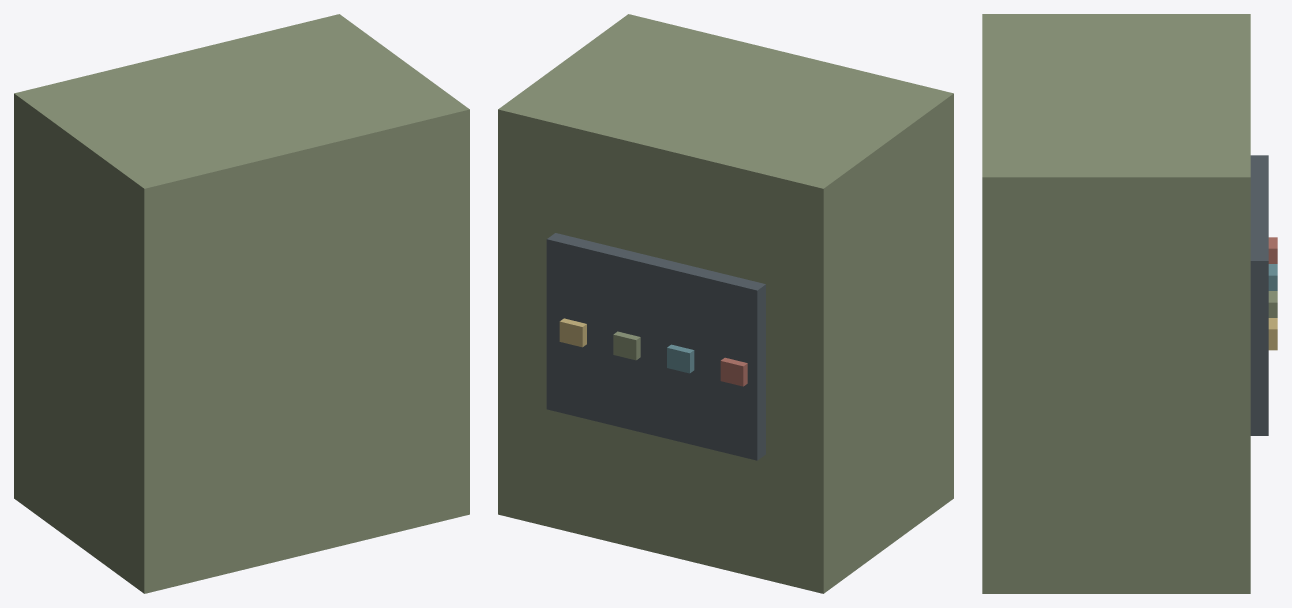
Rendered from iz2_power_cable_bridge.glb.
3 renders of one model, left to right at view 1: azimuth 30°, elevation 25°; view 2: azimuth 150°, elevation 25°; view 3: azimuth 270°, elevation 25°, orthographic. The views are drawn at different scales.
Visible parts, largest first — view 1: body; view 2: body; view 3: body.
Boxes of the visible parts, left/top/right/bottom form: body: left=14, top=14, right=469, bottom=593; body: left=498, top=14, right=953, bottom=593; body: left=982, top=14, right=1277, bottom=593.
Size of the model in its own units: 0.8365 by 0.995 by 0.6386.
